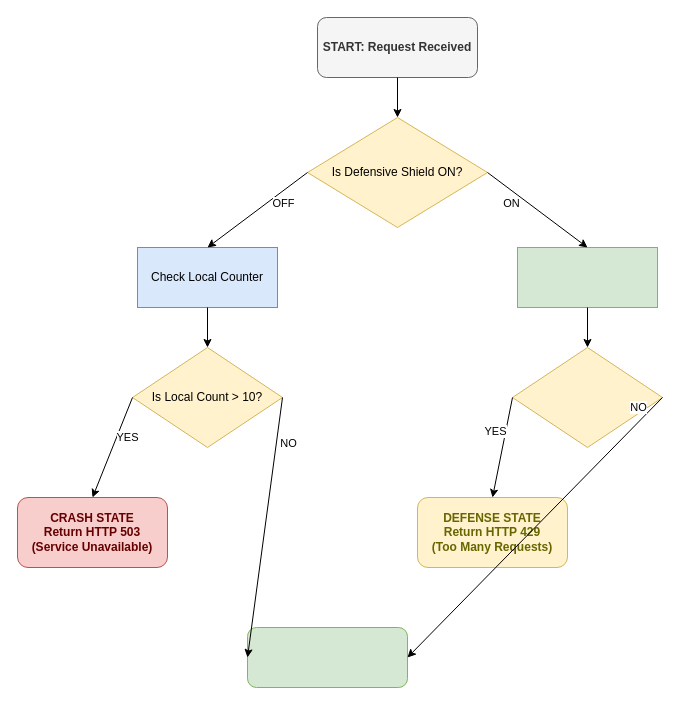
Image size: 688x705. Some labels were removed from this diagram. Here are the shapes that lost their labels. From the top down, the centre of each, then its label:
At (x=587, y=277): "Call Redis INCR (Check Global Count)".
At (x=587, y=397): "Is Global Count > 10?".
At (x=327, y=657): "ALLOW REQUEST Forward to App".
